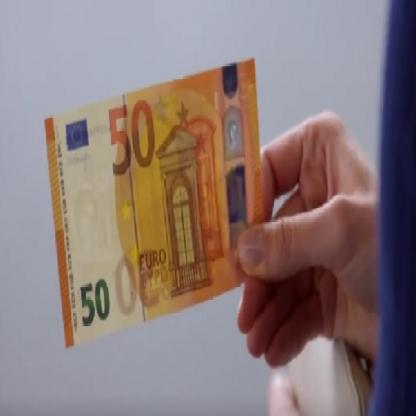billete: (42, 53, 270, 350)
